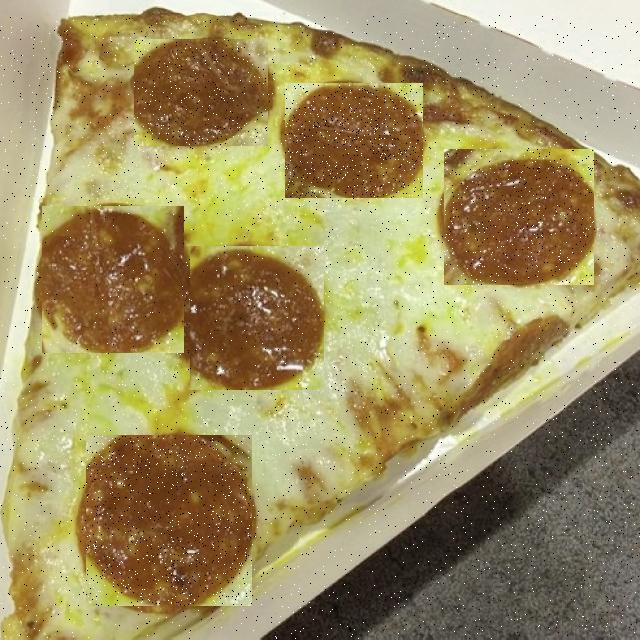Pepperoni: (86, 436, 252, 606), (42, 207, 184, 353), (444, 150, 594, 285), (190, 248, 324, 392), (285, 84, 423, 198), (134, 40, 268, 146)
Pizza: (0, 16, 640, 639)
